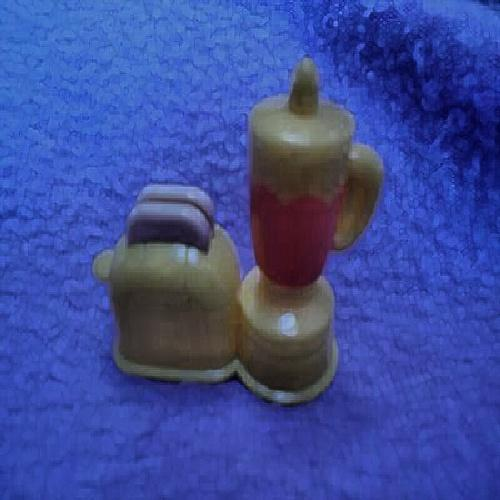toaster: (100, 64, 375, 417)
